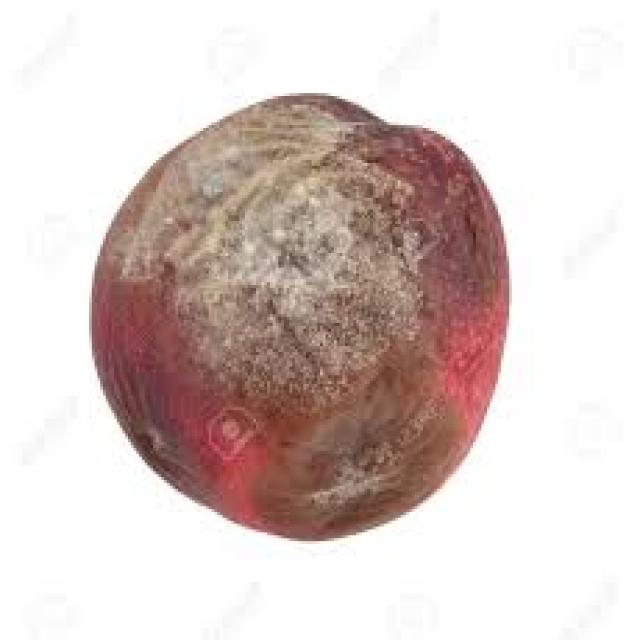organic waste: (86, 90, 506, 535)
